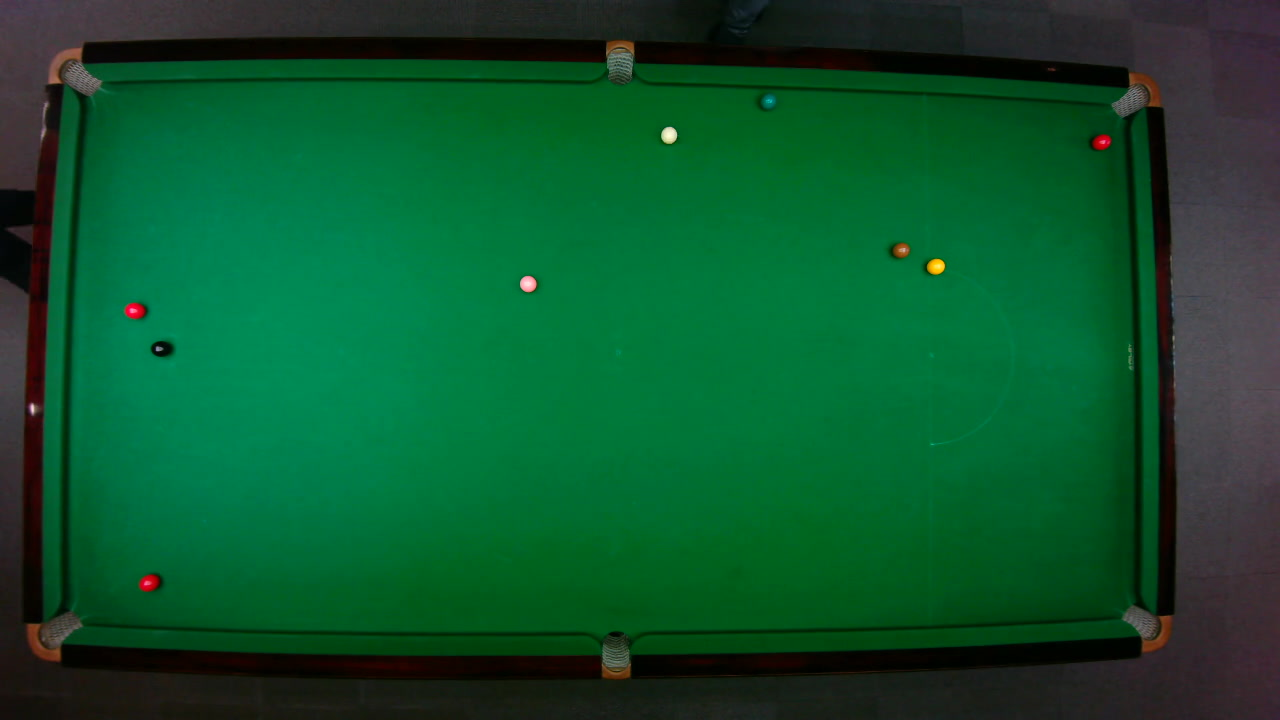bag: (25, 609, 83, 661), (46, 46, 102, 96), (1119, 603, 1172, 652), (1108, 71, 1161, 118), (600, 629, 629, 680), (605, 38, 633, 85)
black: (149, 339, 171, 357)
brown: (890, 241, 910, 258)
green: (759, 92, 776, 110)
pink: (518, 273, 537, 293)
red: (137, 572, 161, 592), (123, 301, 146, 319), (1090, 132, 1112, 150)
white: (659, 125, 678, 144)
yellow: (924, 257, 946, 275)
zone: (927, 267, 1013, 446)
